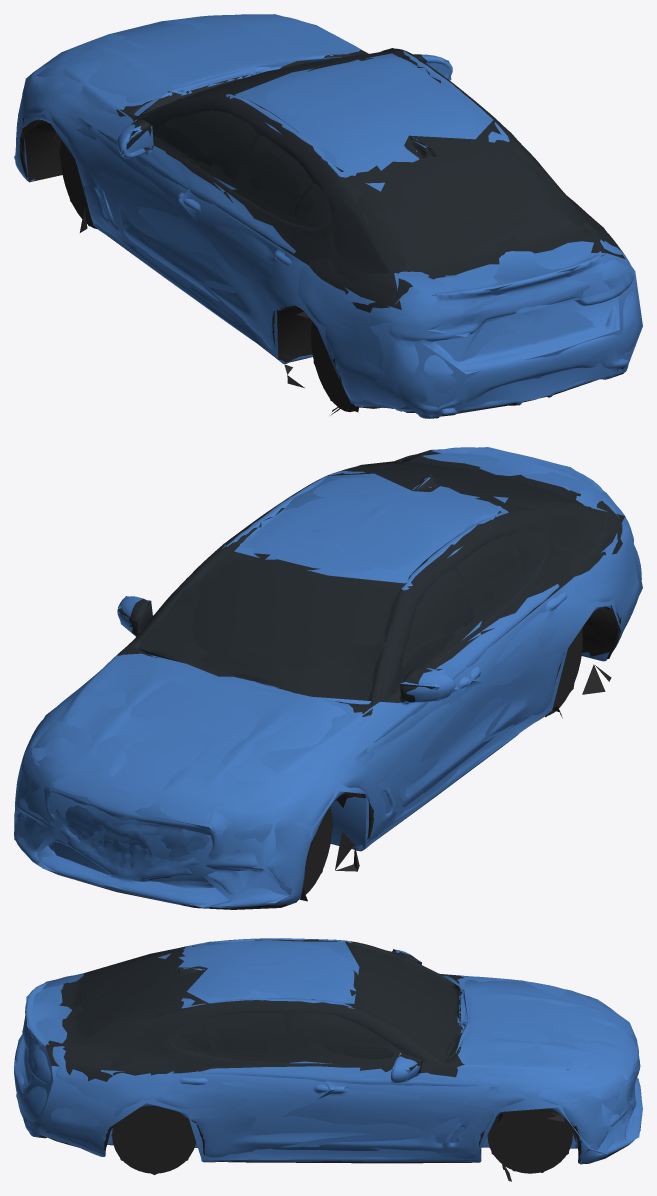
The model's file is genesis-g70.glb.
3 renders of one model, top to bottom at view 1: azimuth 30°, elevation 25°; view 2: azimuth 150°, elevation 25°; view 3: azimuth 270°, elevation 25°, orthographic. The views are drawn at different scales.
Parts seen in each view (by area): view 1: body, far; view 2: body, far; view 3: body, far.
Boxes of the visible parts, x1,y1,x2,y2 form: body: [15, 14, 639, 418]; far: [14, 14, 642, 416]; body: [14, 447, 641, 909]; far: [14, 447, 642, 907]; body: [14, 938, 642, 1181]; far: [14, 940, 642, 1174].
Bounding box in the file's own units: 2.17 × 1.4 × 4.7.
